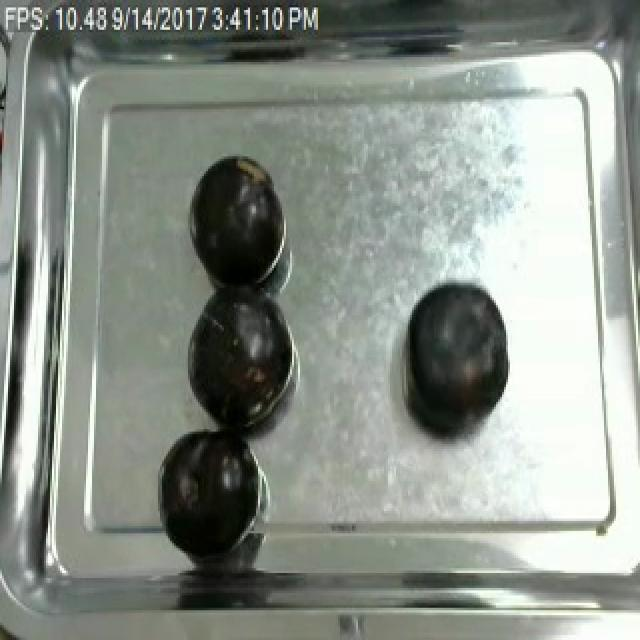Fruit: (400, 278, 514, 439), (184, 290, 290, 432), (156, 419, 260, 561), (184, 154, 282, 290)
